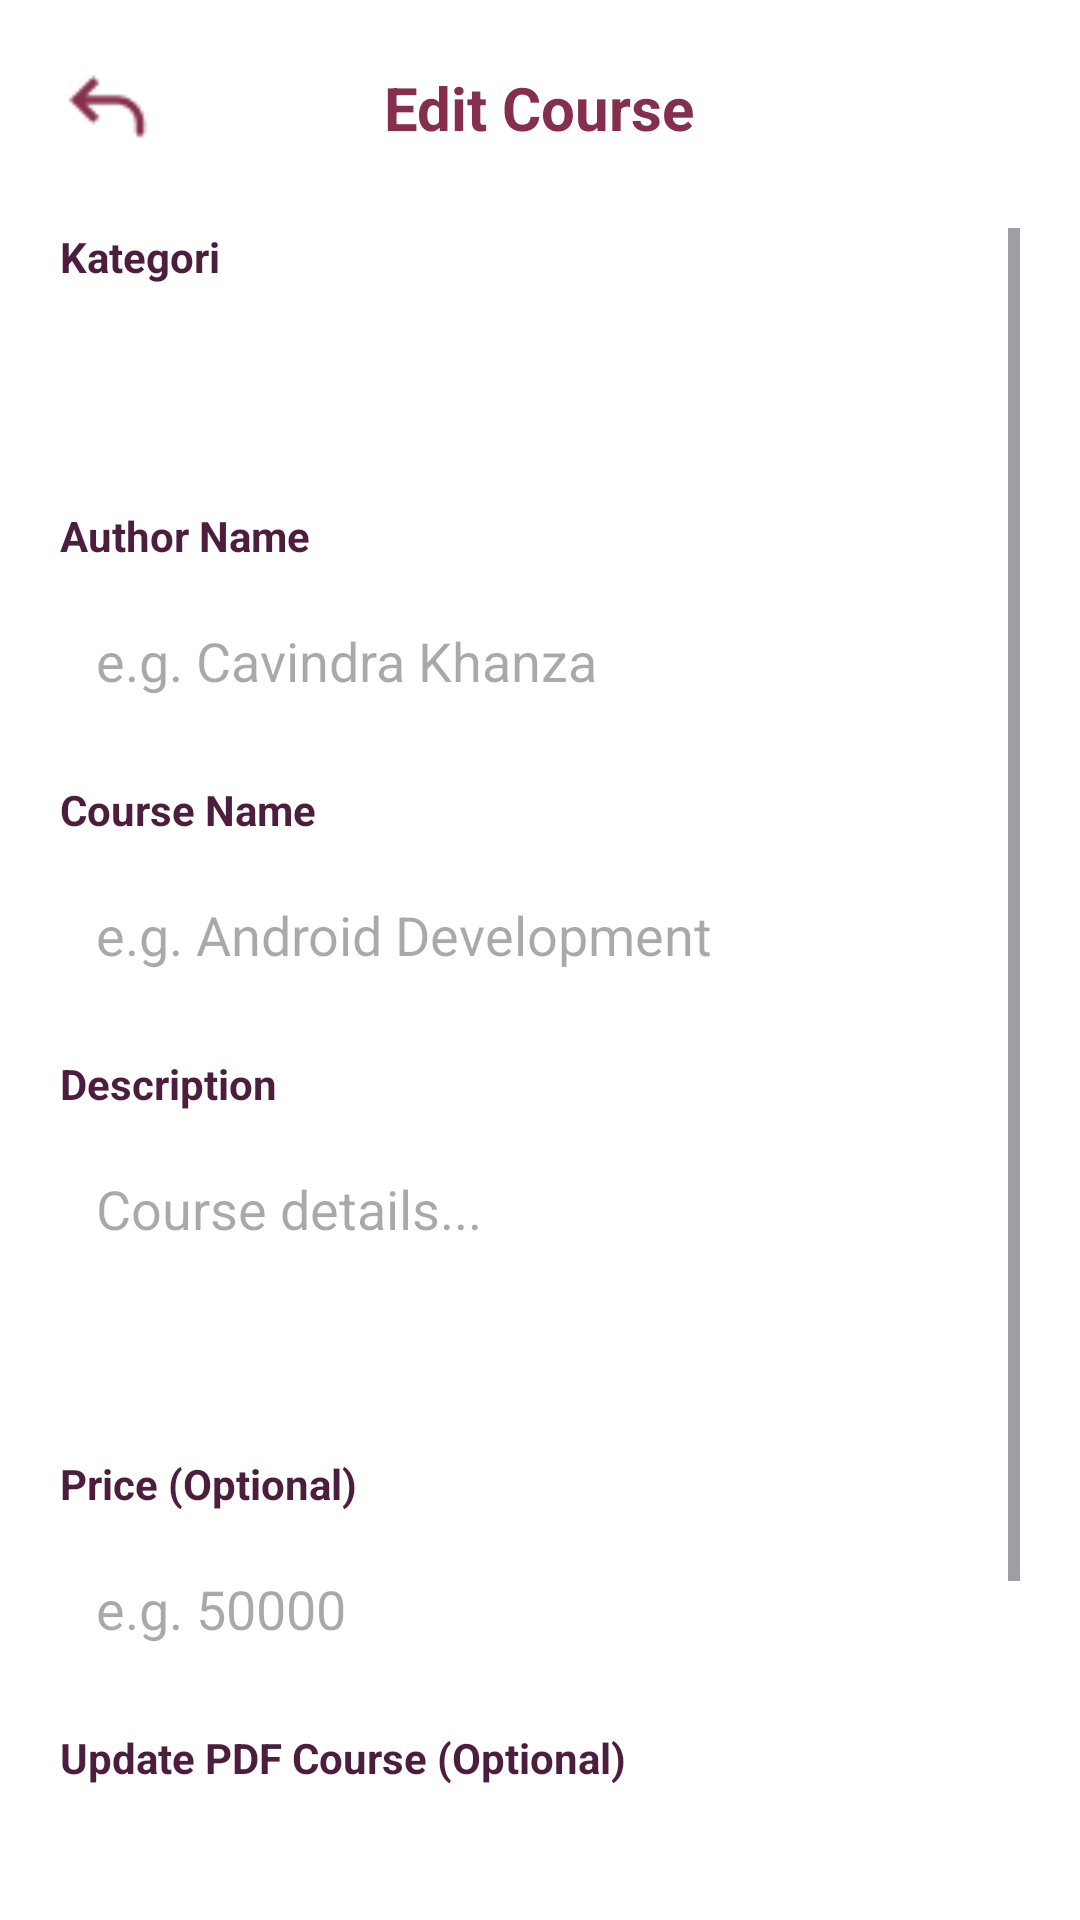

Point at icon controls on the screen. Image size 1080w x 1920h, points as [x,y].
back: [108,106]
